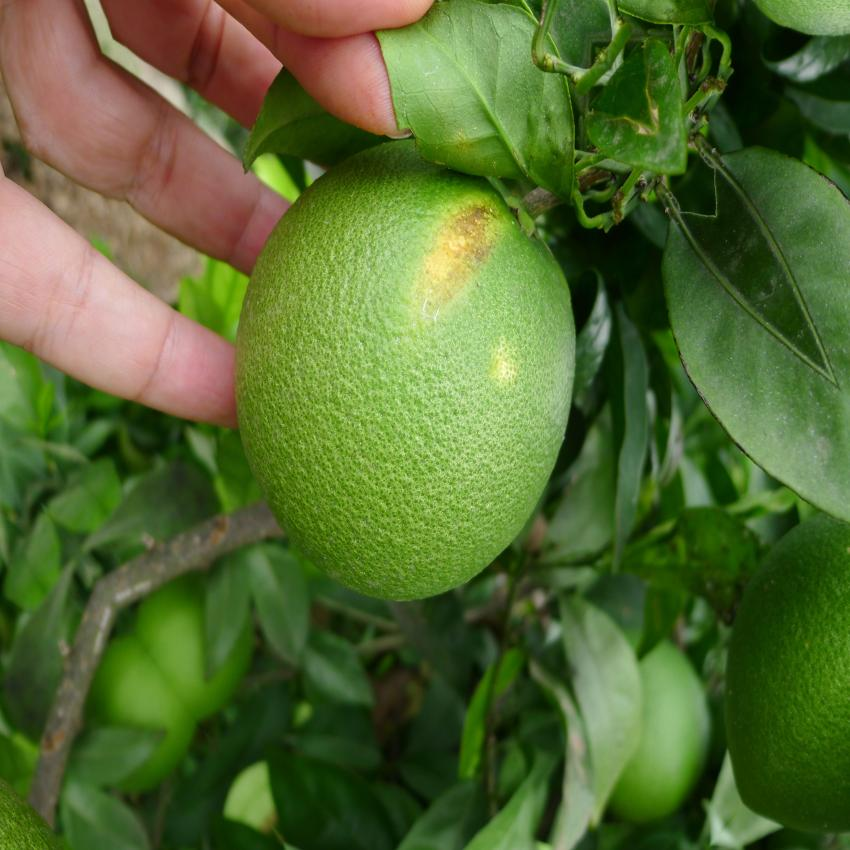Mal estado: (210, 122, 596, 621)
